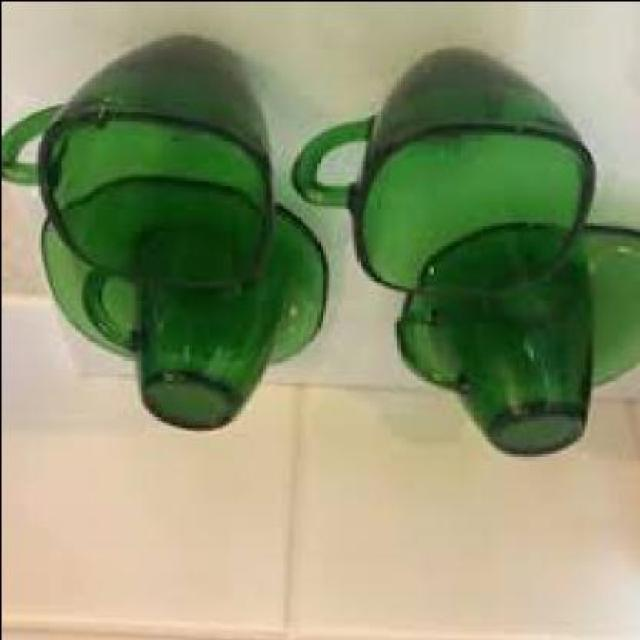GLASS: (293, 48, 598, 302), (2, 35, 273, 293), (41, 182, 327, 370), (398, 225, 638, 397), (82, 235, 290, 432), (398, 270, 594, 458)
